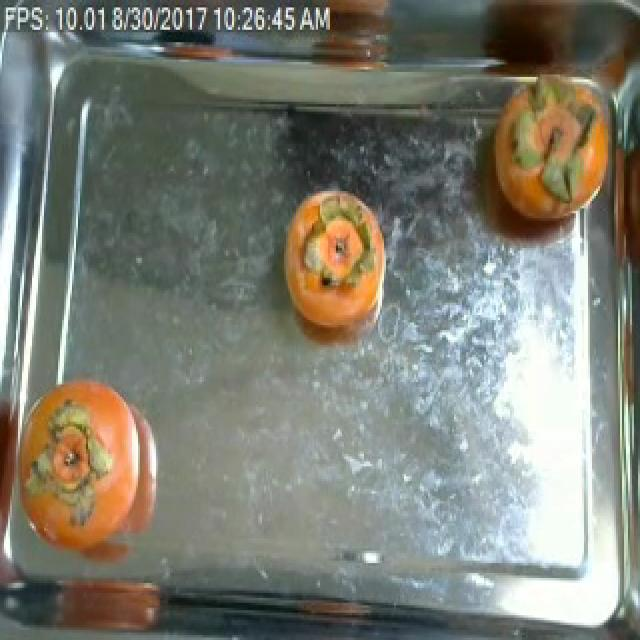Fruit: (270, 176, 388, 313), (46, 560, 174, 638)
